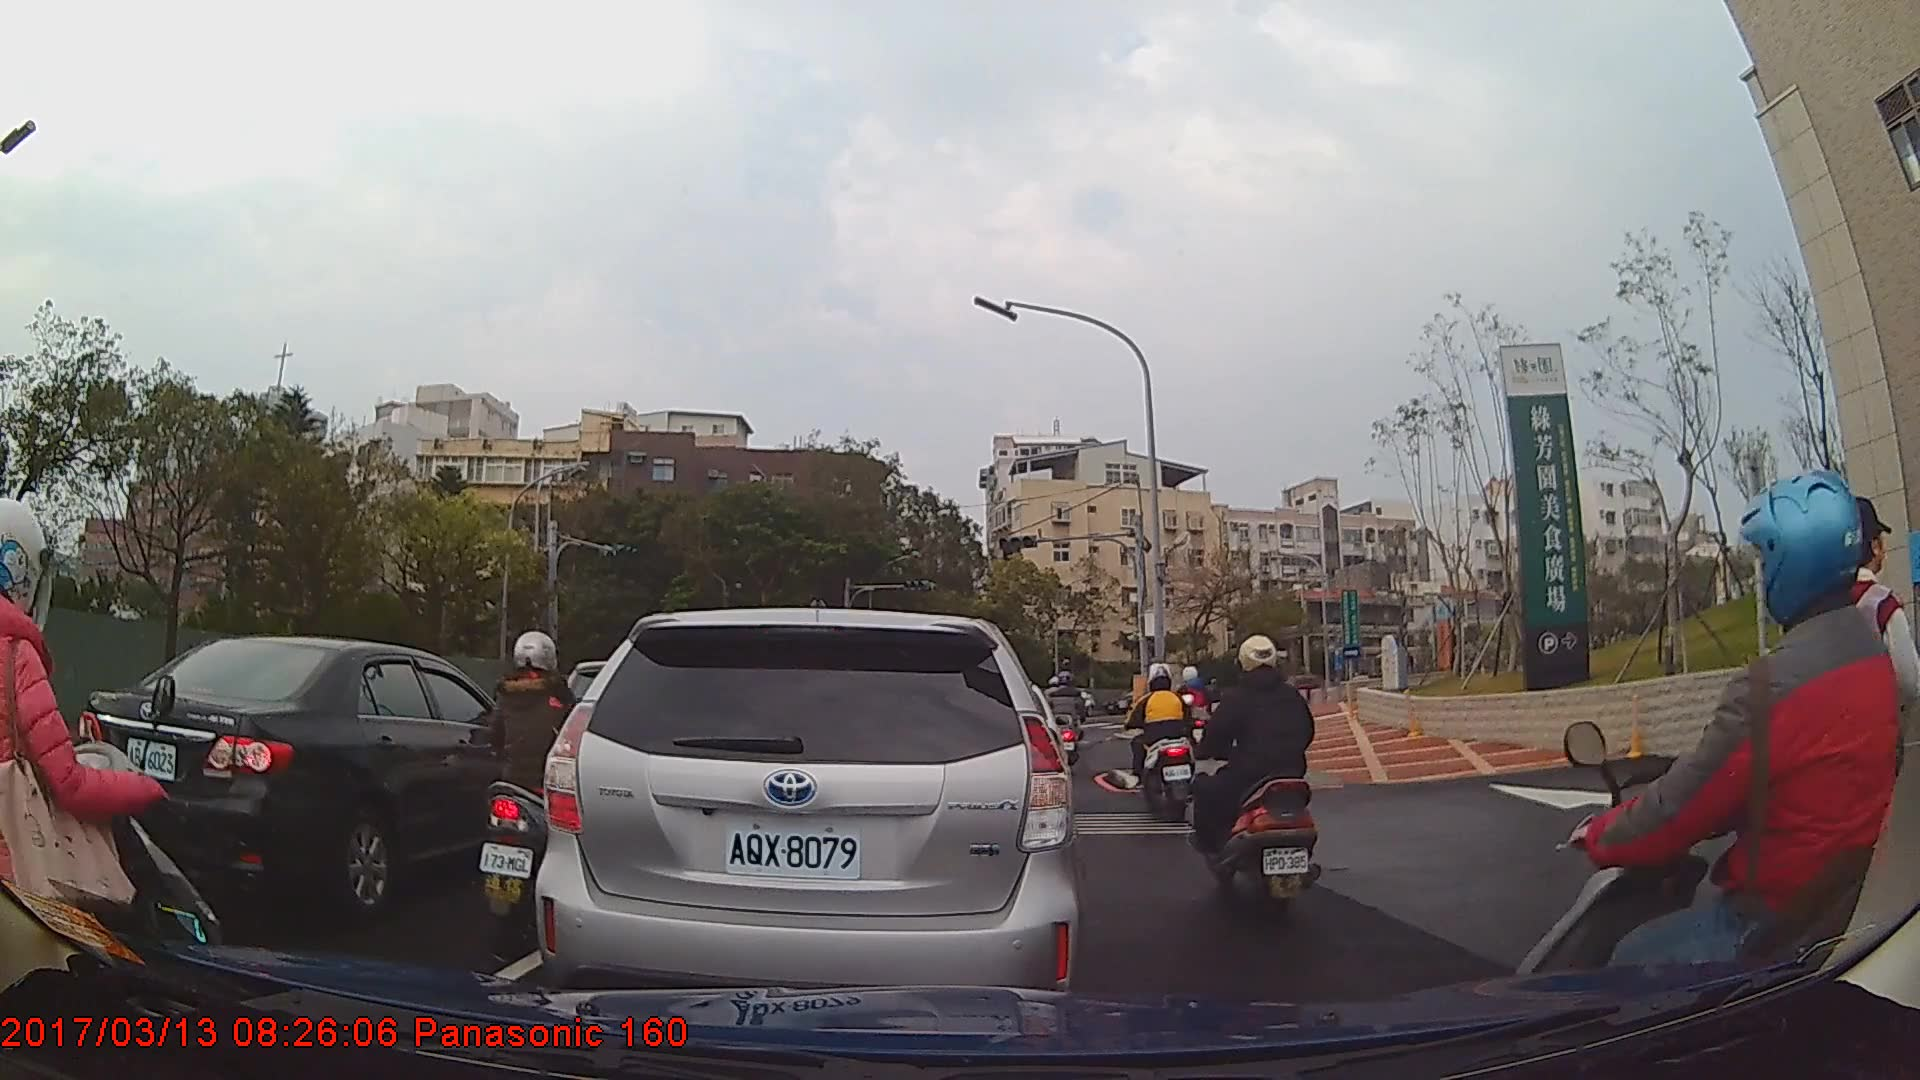pedestrian: (1753, 497, 1920, 979)
rider: (1521, 463, 1908, 1074), (1, 493, 242, 1080), (1189, 633, 1327, 929), (477, 631, 602, 931), (1125, 660, 1205, 827), (1168, 663, 1217, 758), (1045, 671, 1089, 770)
vehicle: (534, 605, 1084, 1022), (74, 635, 568, 919)
